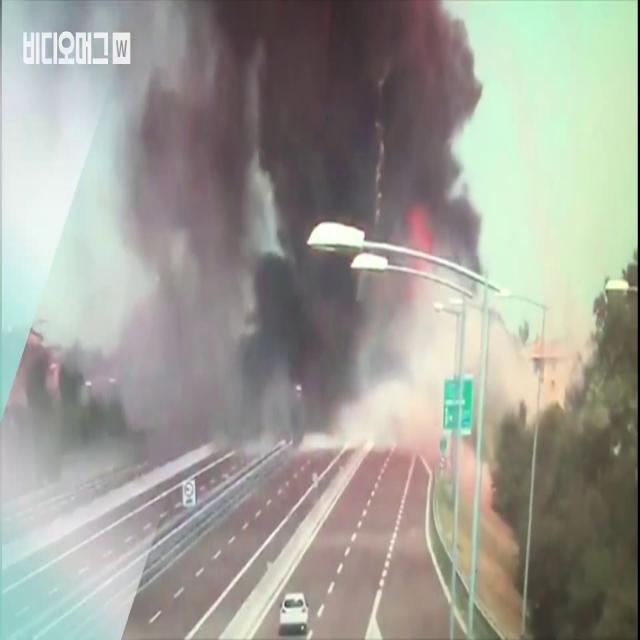explosion: (140, 4, 480, 477)
